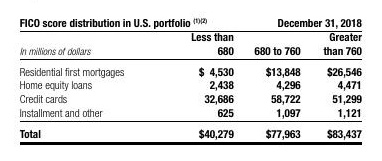table: (0, 0, 382, 161)
